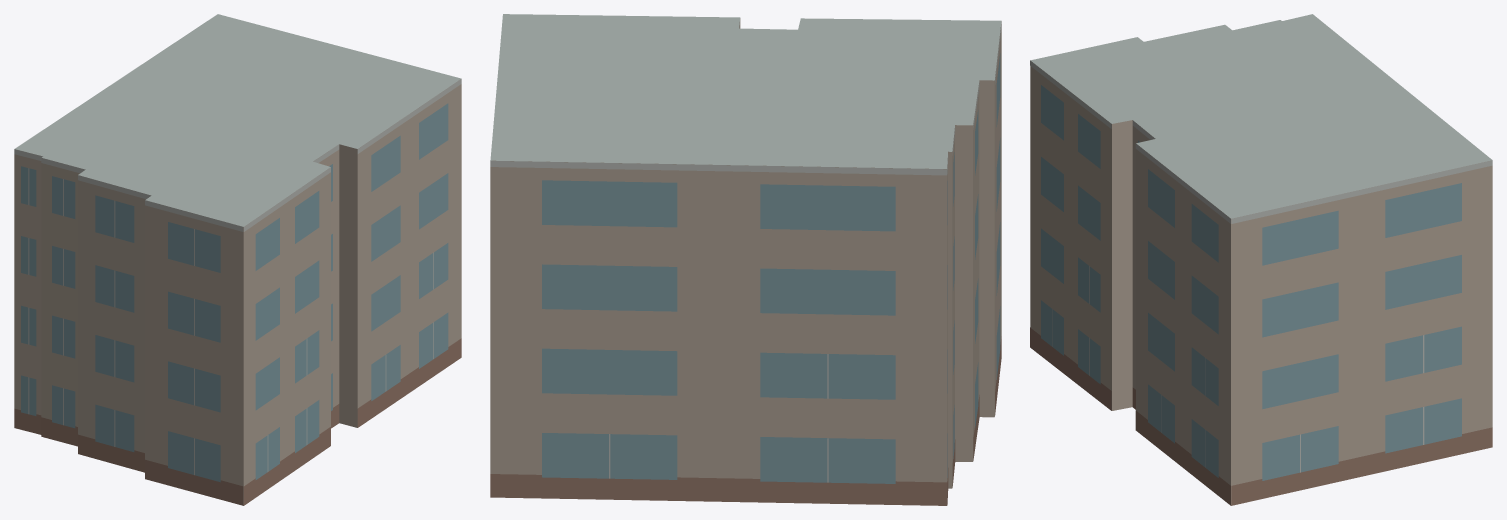
File: survey-upis-32745844.glb
3 renders of one model, left to right at view 1: azimuth 30°, elevation 25°; view 2: azimuth 150°, elevation 25°; view 3: azimuth 270°, elevation 25°, orthographic. The views are drawn at different scales.
Parts seen in each view (by area): view 1: survey-upis-32745844.tmp; view 2: survey-upis-32745844.tmp; view 3: survey-upis-32745844.tmp.
Part boxes in pixels (box(x1,y1,x2,y2)): survey-upis-32745844.tmp: box(14, 14, 461, 505); survey-upis-32745844.tmp: box(490, 14, 1001, 505); survey-upis-32745844.tmp: box(1030, 14, 1492, 505).
Bounding box in the file's own units: 19.89 × 13 × 18.99.
